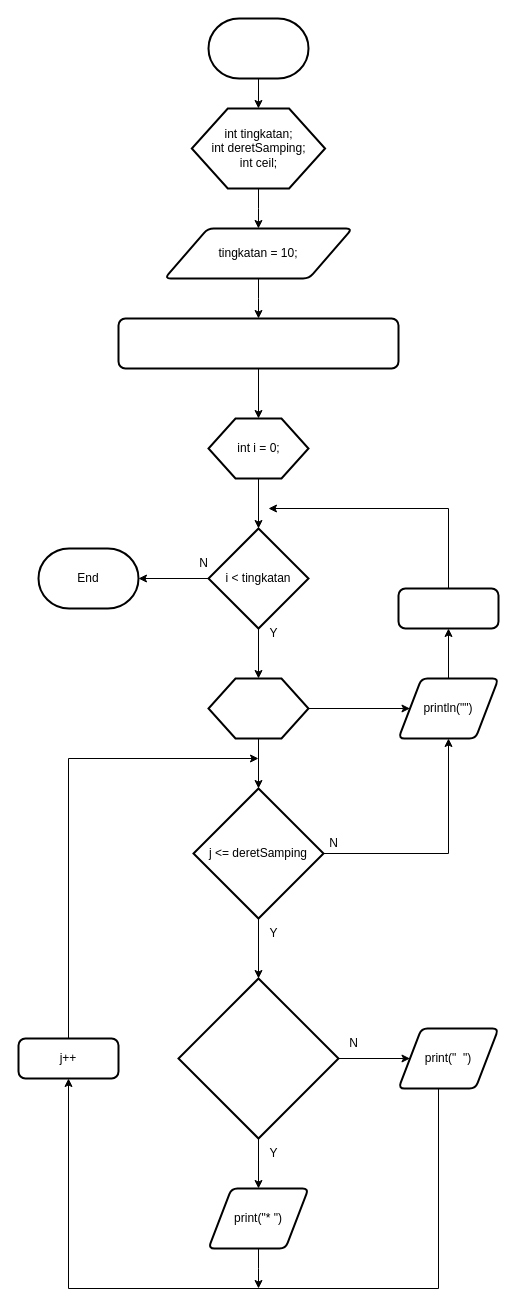
This 516x1314 diagram has some shape labels left out. The box of each missing label's shape, as (x1, y1, x2, y2) in pixels:
deretSamping = (tingkatan *2) - 1; ceil = (int) Math.ceil(deretSamping / 2.0);: (117, 317, 399, 369)
i++: (397, 587, 499, 629)
int j = 1;: (207, 677, 309, 739)
j >= (ceil - i) && j <= (ceil + i): (177, 977, 339, 1139)
Start: (207, 17, 309, 79)
